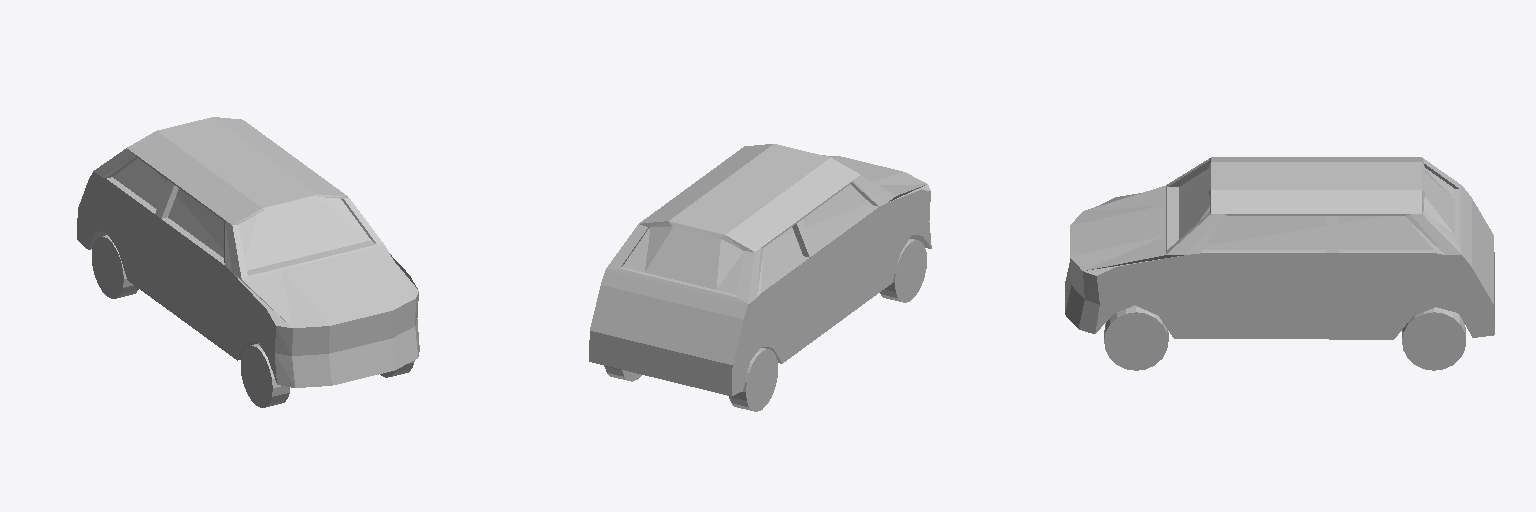
Rendered from Mini.obj.
The picture shows the model from 3 angles: view 1: azimuth 30°, elevation 25°; view 2: azimuth 150°, elevation 25°; view 3: azimuth 270°, elevation 25°; orthographic projection.
Visible parts, largest first — view 1: pCube1, pCube2, pCylinder3; view 2: pCube1, pCube2, pCylinder3; view 3: pCube1, pCube2, pCylinder3.
Part boxes in pixels (bbox=[...]): pCube1: bbox=[77, 117, 419, 387]; pCube2: bbox=[113, 158, 370, 270]; pCylinder3: bbox=[92, 235, 414, 407]; pCube1: bbox=[589, 144, 931, 396]; pCube2: bbox=[622, 184, 871, 294]; pCylinder3: bbox=[604, 239, 926, 411]; pCube1: bbox=[1065, 157, 1494, 339]; pCube2: bbox=[1179, 168, 1454, 249]; pCylinder3: bbox=[1104, 305, 1465, 370].
Size of the model in its own units: 2.73 by 2.92 by 7.12.